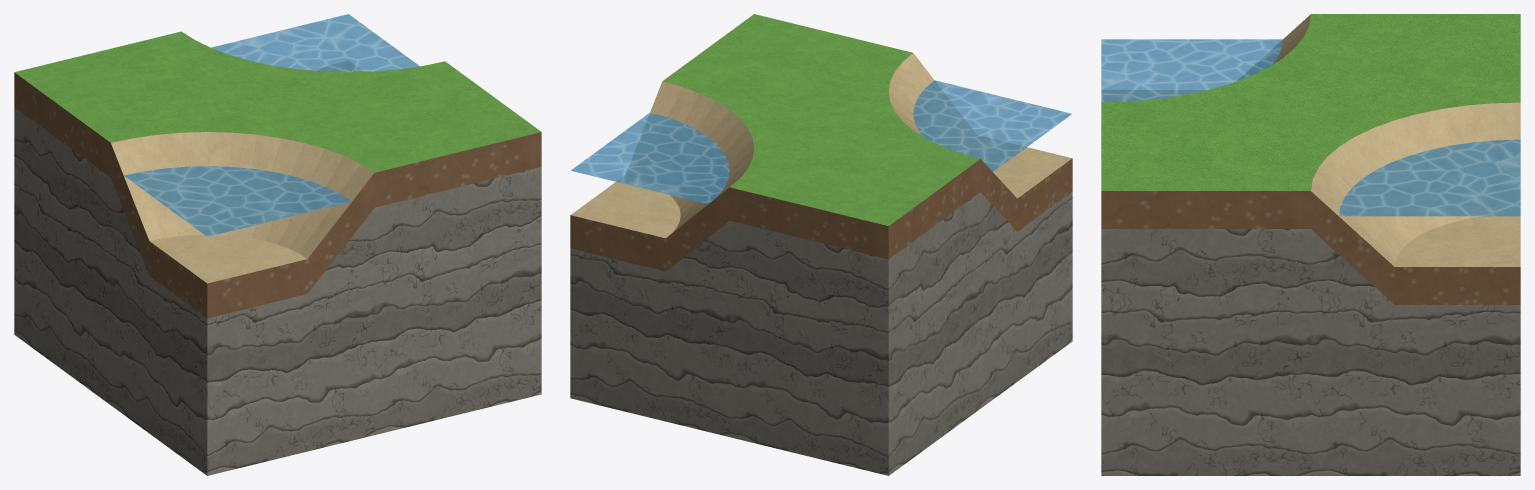
The model's file is Water_Diagonal_U.fbx.
The picture shows the model from 3 angles, left to right: view 1: azimuth 30°, elevation 25°; view 2: azimuth 150°, elevation 25°; view 3: azimuth 270°, elevation 25°; orthographic projection. The views are drawn at different scales.
Parts seen in each view (by area): view 1: Water_Diagonal_U, Water_Diagonal_U_Water; view 2: Water_Diagonal_U, Water_Diagonal_U_Water; view 3: Water_Diagonal_U, Water_Diagonal_U_Water.
Part boxes in pixels (x1,y1,x2,y2): Water_Diagonal_U: (14, 31, 541, 475); Water_Diagonal_U_Water: (124, 14, 419, 236); Water_Diagonal_U: (570, 14, 1072, 475); Water_Diagonal_U_Water: (571, 80, 1071, 204); Water_Diagonal_U: (1101, 14, 1520, 475); Water_Diagonal_U_Water: (1101, 39, 1520, 216).
Size of the model in its own units: 3 by 2.25 by 3.
Materials: 5 (5 with a texture image).
